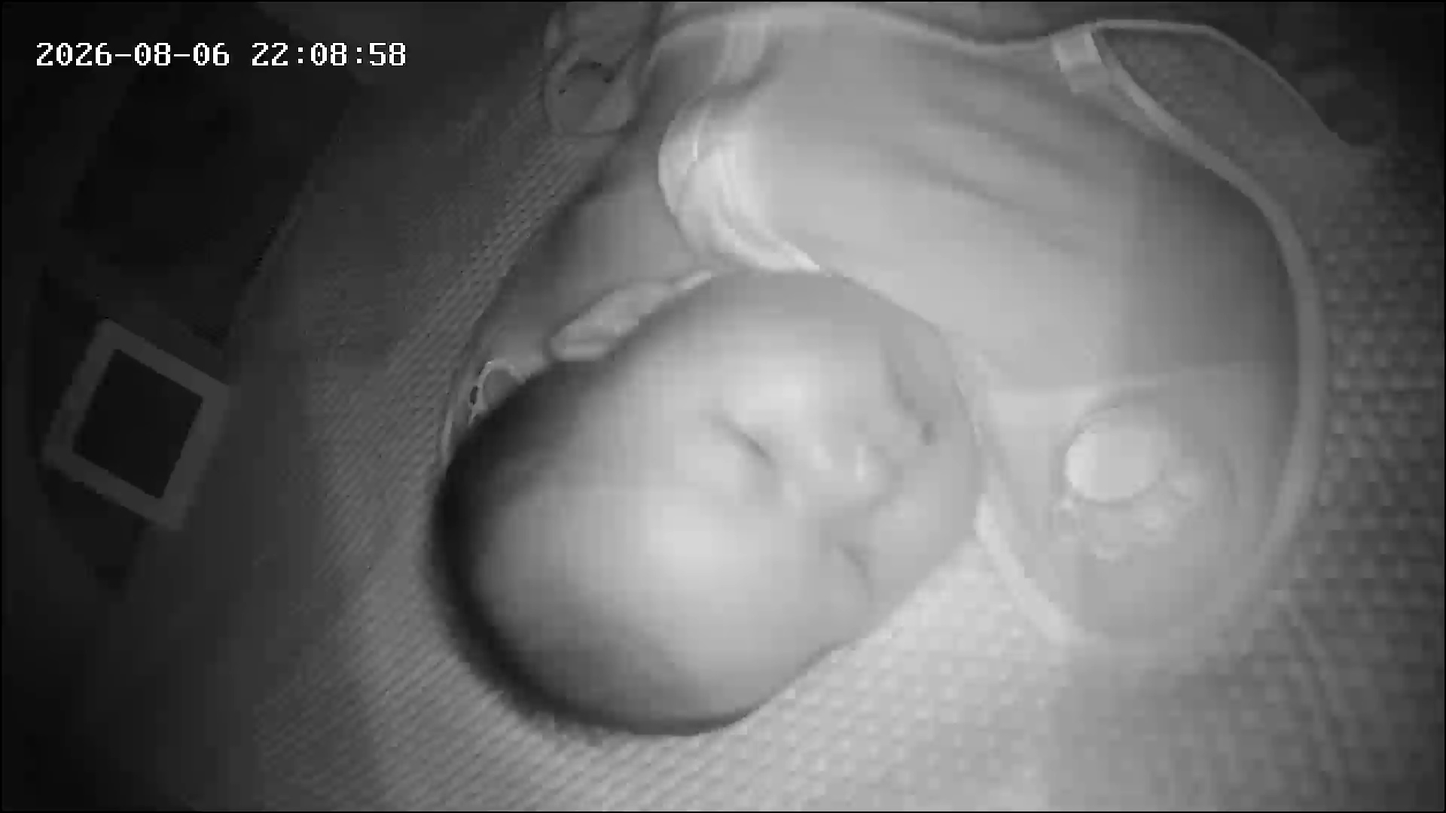baby: (418, 2, 1331, 752)
baby_face: (423, 254, 985, 748)
